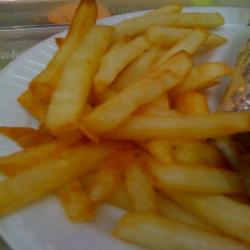fries: (51, 24, 217, 229)
